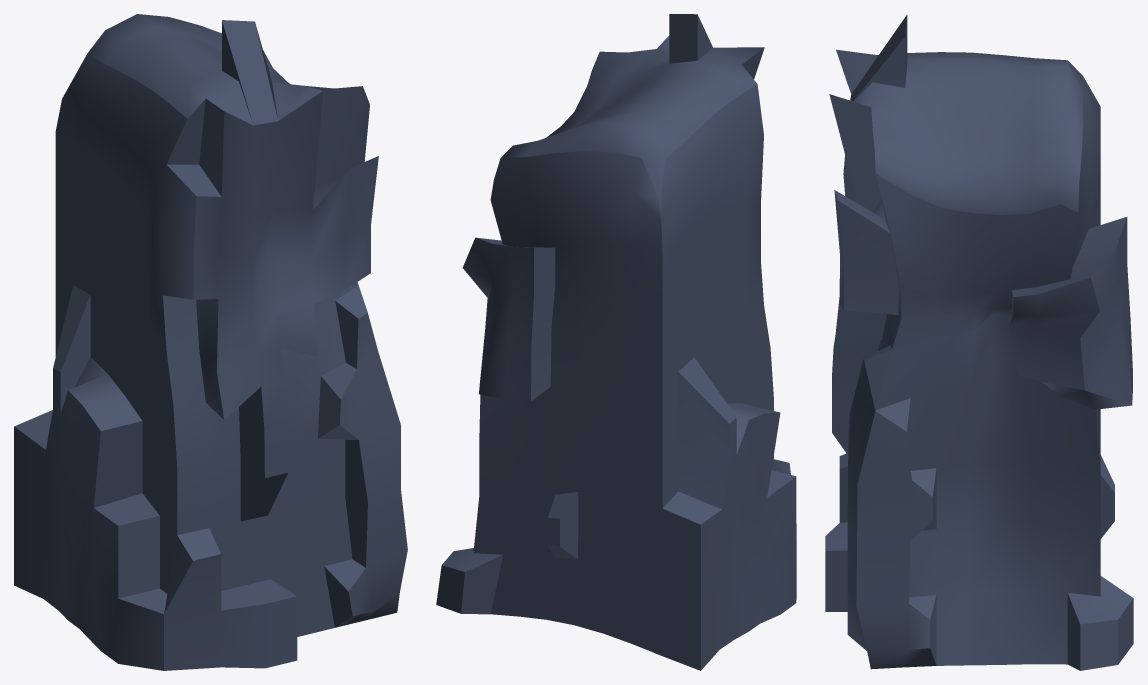
The model's file is Night_Big_Rock.fbx.
3 renders of one model, left to right at view 1: azimuth 30°, elevation 25°; view 2: azimuth 150°, elevation 25°; view 3: azimuth 270°, elevation 25°, orthographic. The views are drawn at different scales.
Parts seen in each view (by area): view 1: pCube1; view 2: pCube1; view 3: pCube1.
Boxes of the visible parts, bbox=[...] form: pCube1: bbox=[14, 14, 407, 670]; pCube1: bbox=[436, 14, 796, 670]; pCube1: bbox=[825, 14, 1133, 670].
Bounding box in the file's own units: 7.75 × 16.28 × 7.53.
